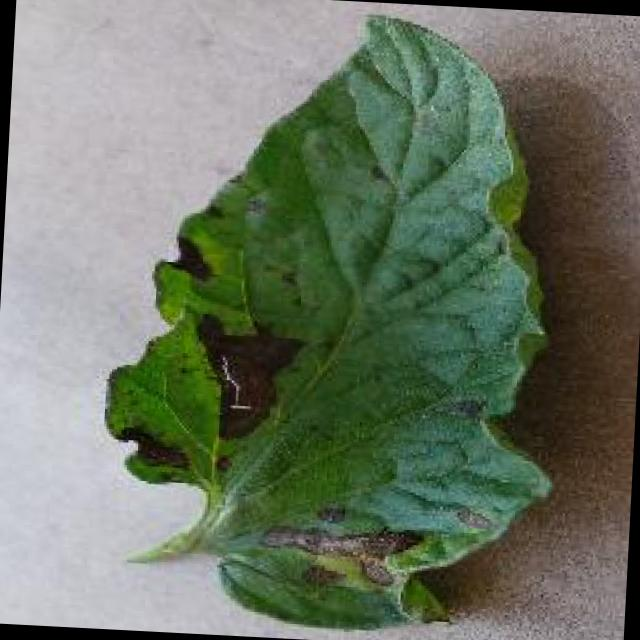Tomato_Early_Blight: (62, 259, 472, 639)
